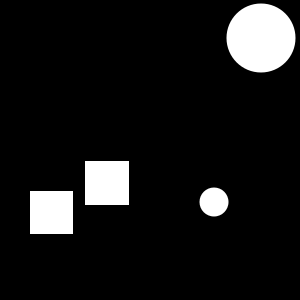circle: (85, 161, 129, 205), (30, 191, 73, 234)
rectangle: (226, 4, 296, 73), (200, 188, 228, 216)
